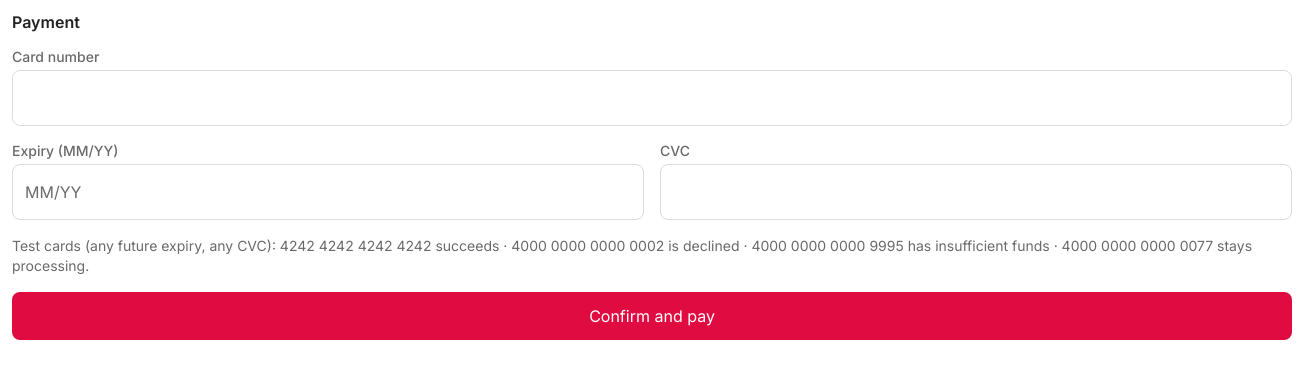
Test case: ConfirmBookingButton › shows why the payment failed and lets the guest try again
Type "4000 0000 0000 0002" into the field labelled "Card number". click: (652, 98)
box: [12,70,1292,126]
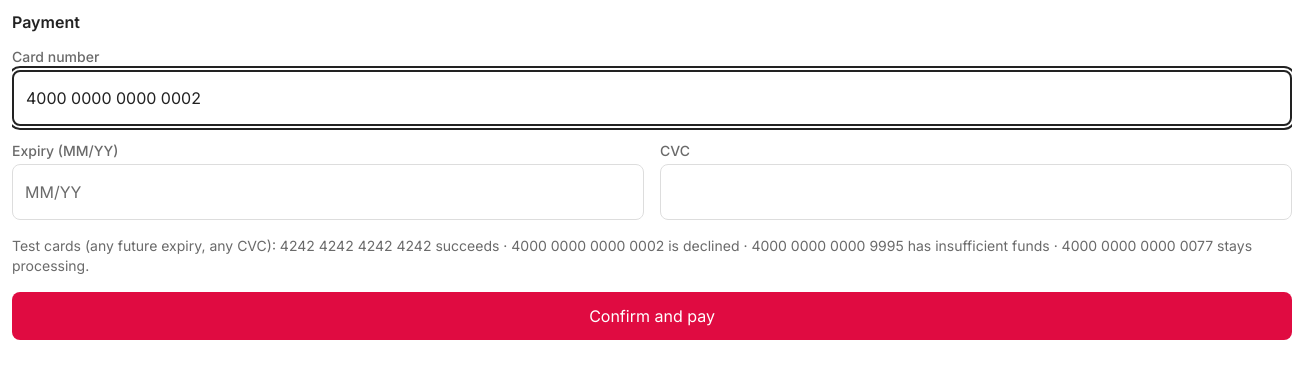
Type "12/30" into the field labelled "Expiry (MM/YY)". click: (328, 192)
box: [12,164,644,220]
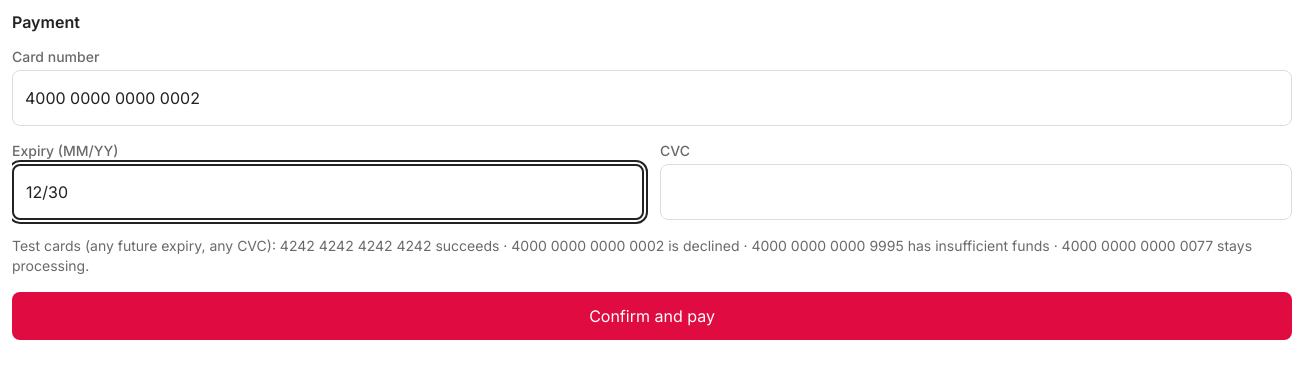
Type "123" into the field labelled "CVC". click: (976, 192)
box: [660,164,1292,220]
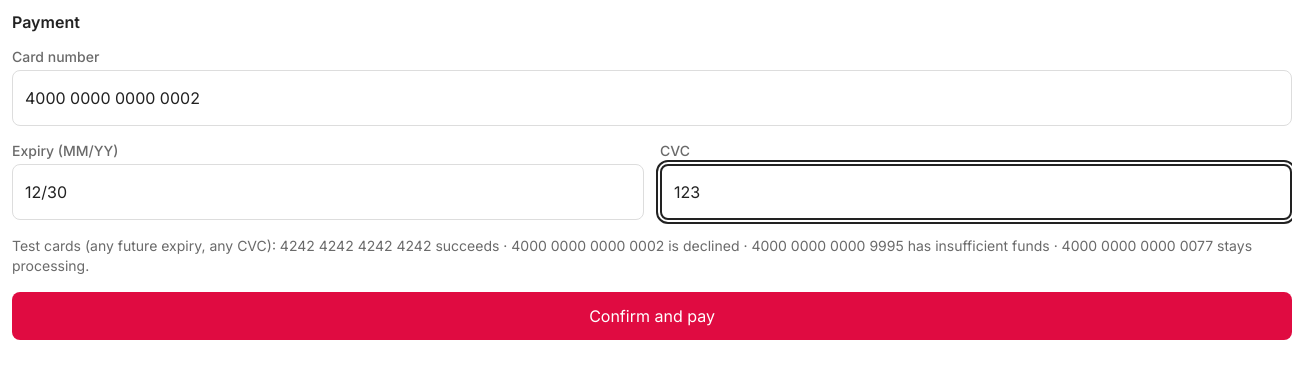
Click the button "Confirm and pay". click: (652, 316)
box: [12,292,1292,340]
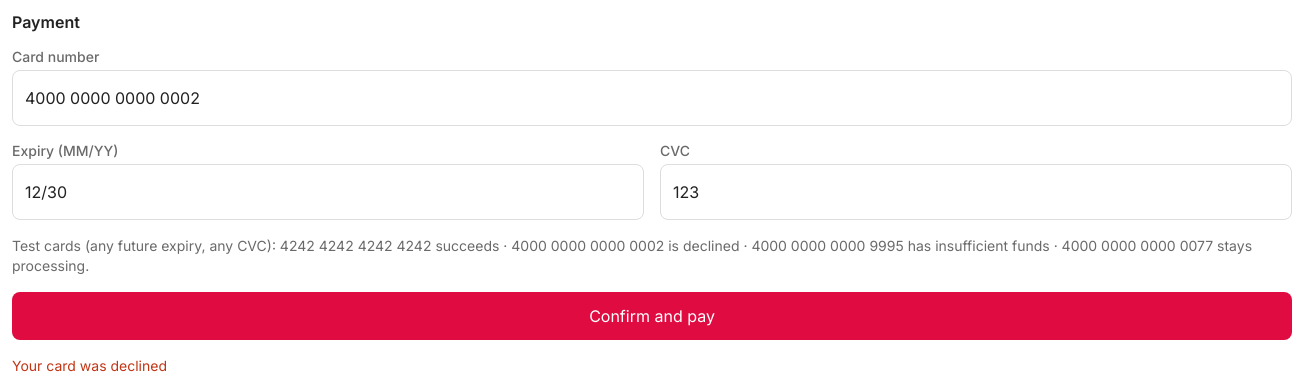
Result: the message reads "Your card was declined" at [12,357,167,374]
